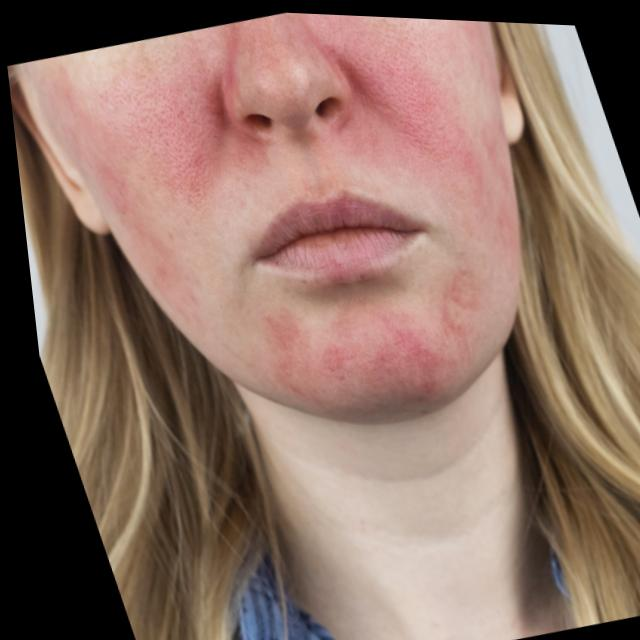skinredness: (237, 249, 518, 444), (51, 19, 266, 227), (312, 11, 485, 191)
